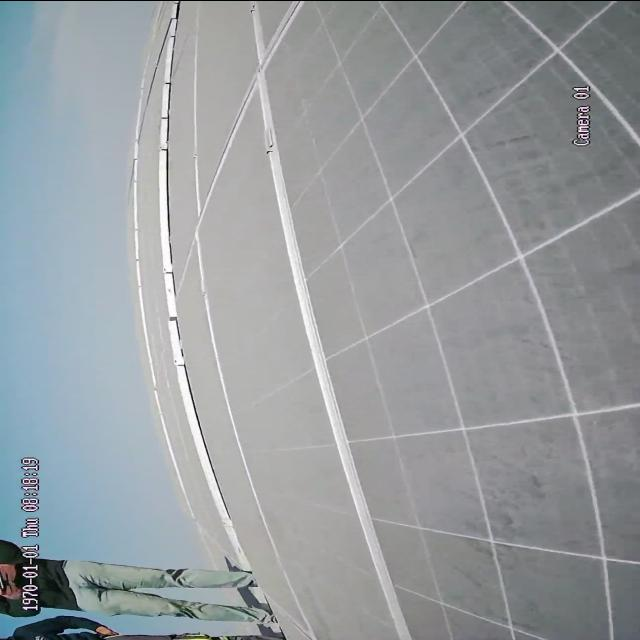interior panel: (250, 0, 411, 639)
